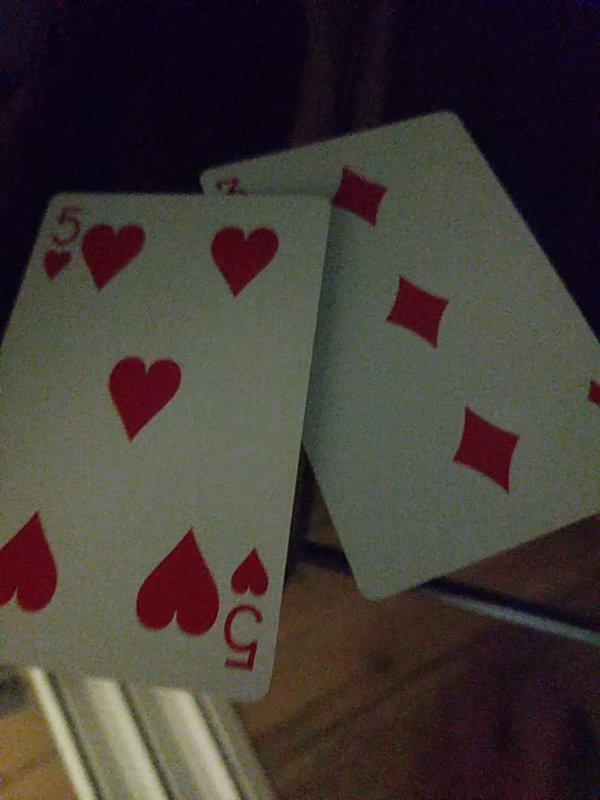Diamonds: (202, 113, 600, 598)
Hearts: (1, 193, 328, 708)
